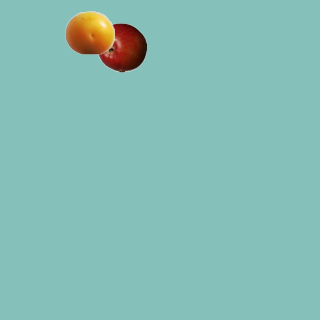Apple Braeburn: (96, 22, 146, 72)
Cherry Wax Yellow: (64, 7, 114, 57)
